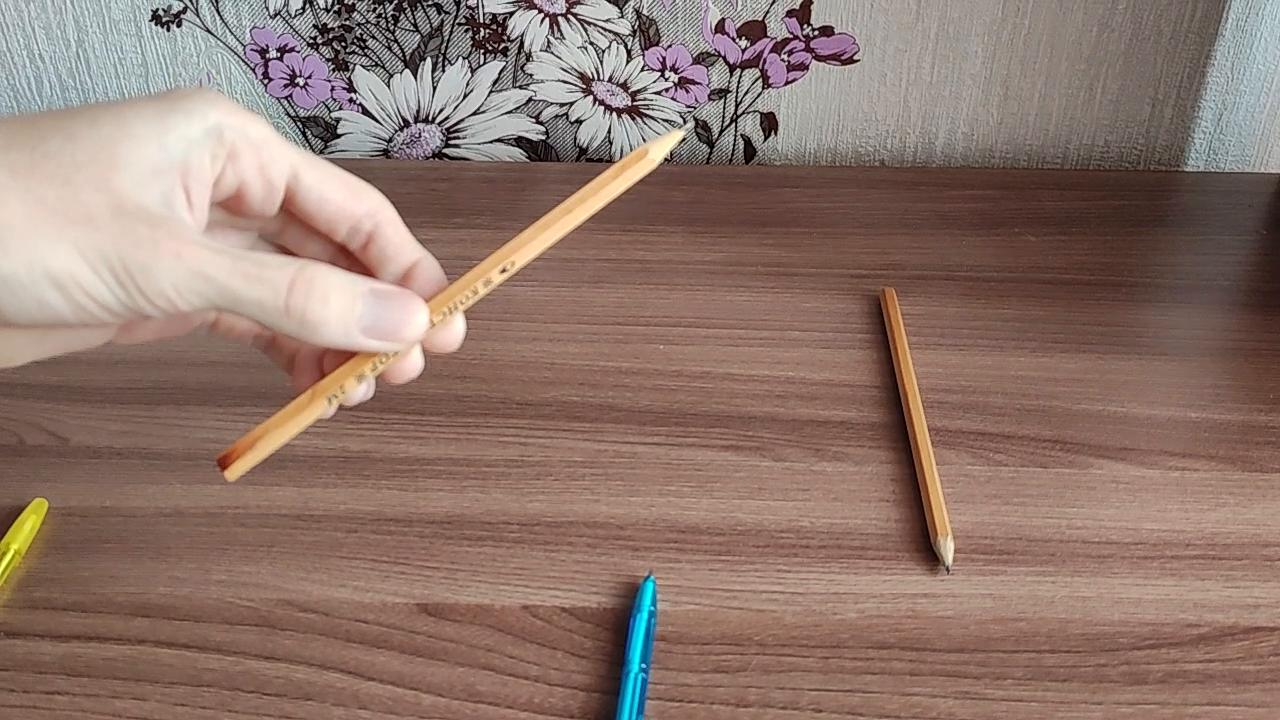pen: (616, 565, 664, 720), (0, 492, 54, 594)
pencil: (213, 119, 701, 486), (879, 283, 961, 579)
